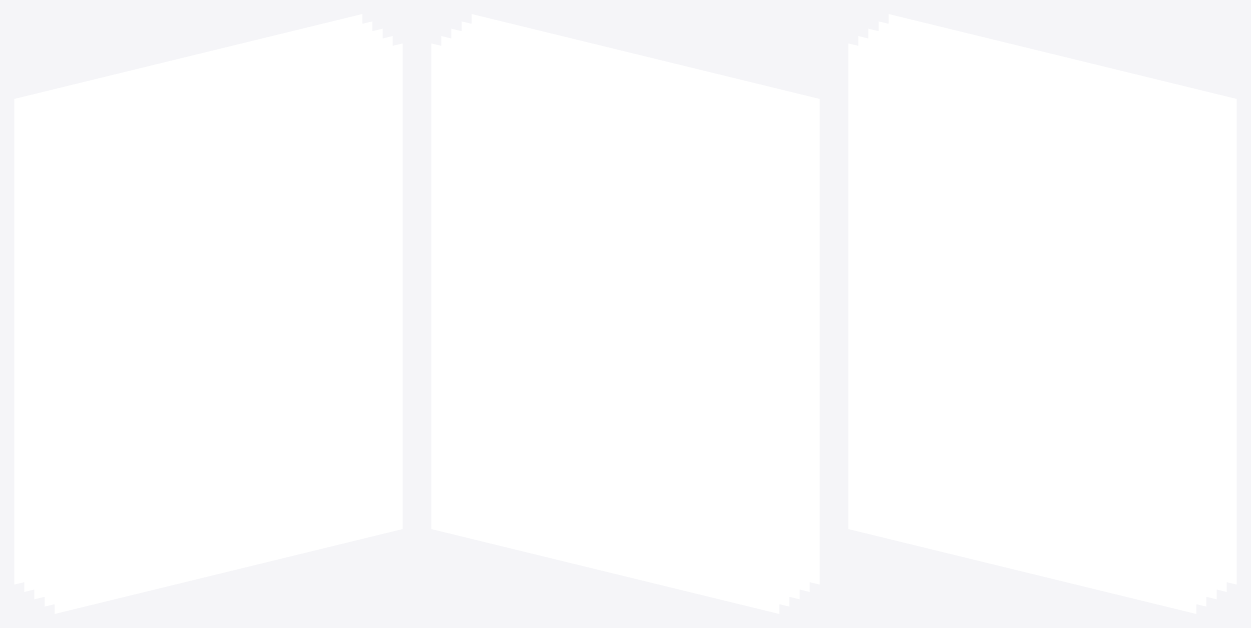
The model's file is aura_shield.glb.
The picture shows the model from 3 angles, left to right: view 1: azimuth 30°, elevation 25°; view 2: azimuth 150°, elevation 25°; view 3: azimuth 330°, elevation 25°; orthographic projection.
Parts seen in each view (by area): view 1: Soft mist layer, Soft mist layer.001, Soft mist layer.003, Soft mist layer.002, Soft mist layer.004; view 2: Soft mist layer.004, Soft mist layer.001, Soft mist layer.003, Soft mist layer.002, Soft mist layer; view 3: Soft mist layer, Soft mist layer.001, Soft mist layer.003, Soft mist layer.002, Soft mist layer.004.
Boxes of the visible parts, x1,y1,x2,y2 form: Soft mist layer: [54, 43, 402, 613]; Soft mist layer.001: [44, 36, 392, 606]; Soft mist layer.003: [24, 21, 372, 591]; Soft mist layer.002: [34, 28, 382, 599]; Soft mist layer.004: [14, 14, 362, 584]; Soft mist layer.004: [431, 43, 779, 613]; Soft mist layer.001: [461, 21, 809, 591]; Soft mist layer.003: [441, 36, 789, 606]; Soft mist layer.002: [451, 28, 799, 599]; Soft mist layer: [471, 14, 819, 584]; Soft mist layer: [848, 43, 1196, 613]; Soft mist layer.001: [858, 36, 1206, 606]; Soft mist layer.003: [878, 21, 1226, 591]; Soft mist layer.002: [868, 28, 1216, 599]; Soft mist layer.004: [888, 14, 1236, 584].
Bounding box in the file's own units: 0.24 × 0.32 × 0.048.
Materials: 1 (1 with a texture image).
